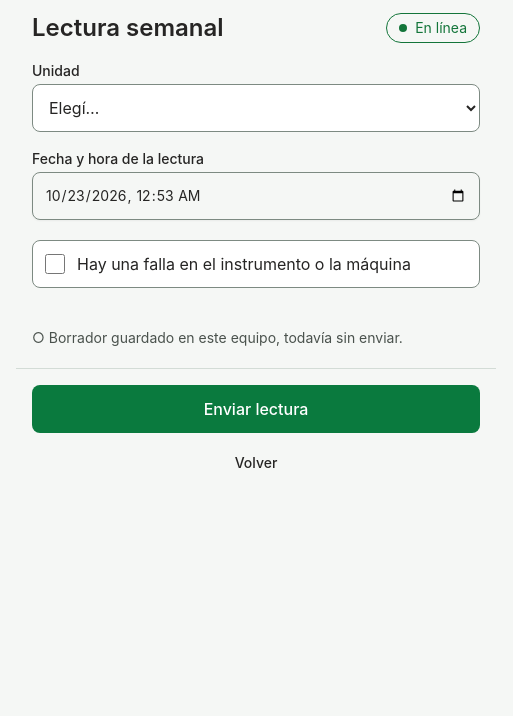
Test case: LecturaNuevaPage (RNF05 en el formulario) › muestra la lectura anterior y bloquea una menor antes de enviar
The width and height of the screenshot is (513, 716).
Select "HV-01 · Harvester" in the dropdown labelled "Unidad": (256, 108) [32, 84, 480, 132]
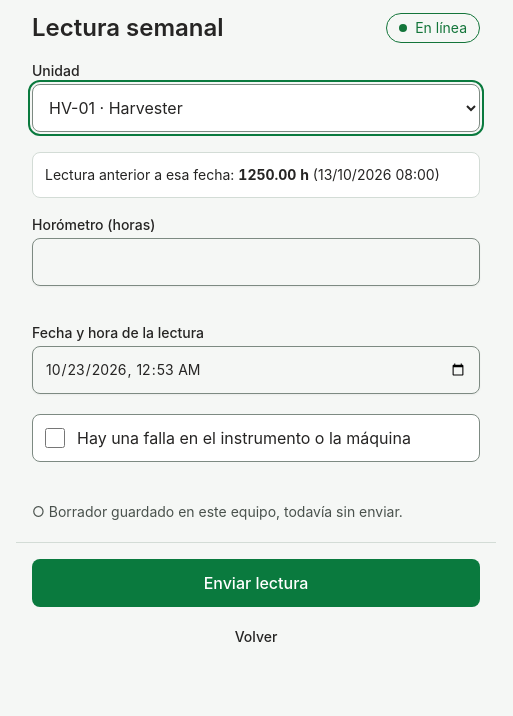
Check: the text "1250.00 h" is shown, box [238, 166, 309, 183]
In the field labelled "Horómetro (horas)": (256, 262) [32, 238, 480, 286], type "1205"
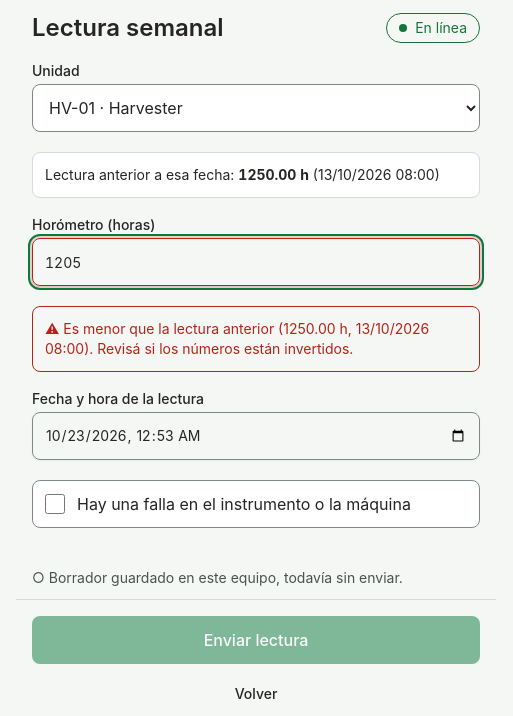
Check: the text "Es menor que la lectura anterior (1250.00 h" is shown, box [45, 320, 429, 357]
Check: the button "Enviar lectura" is disabled, box [32, 616, 480, 664]
